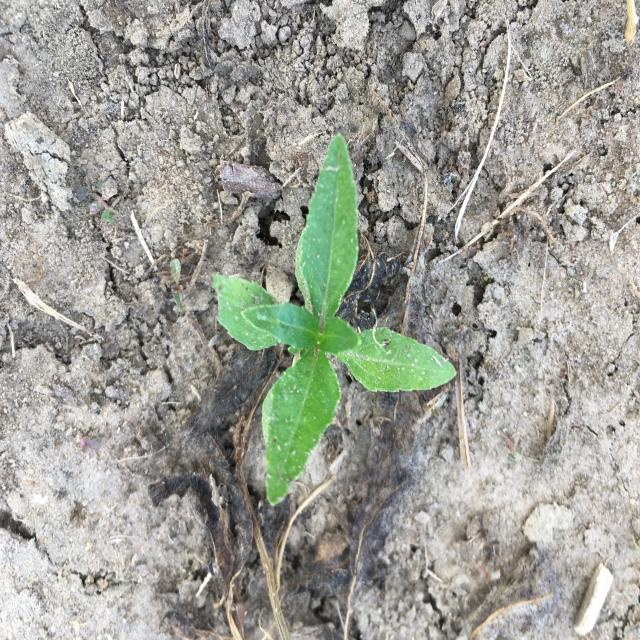Eclipta: (211, 133, 456, 508)
